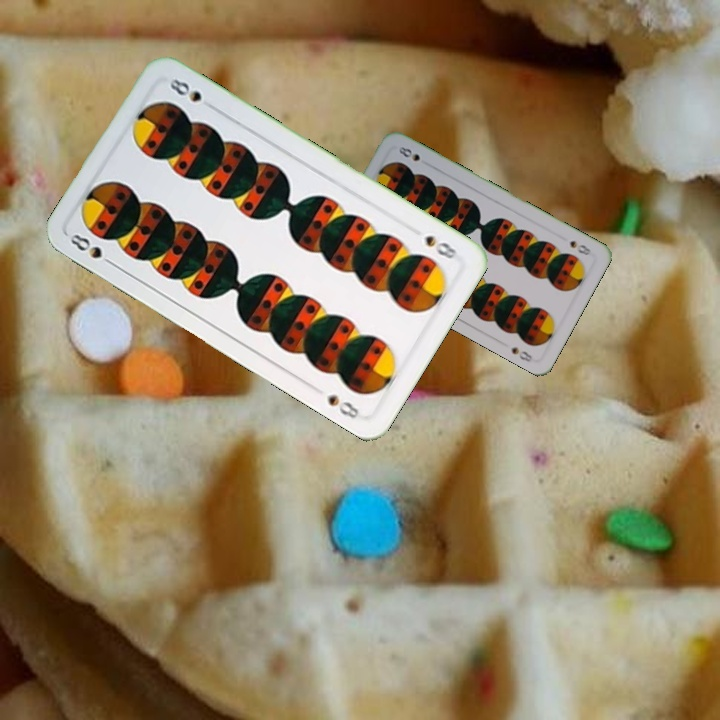S8: (65, 229, 119, 269), (421, 231, 464, 262), (566, 236, 594, 258)
